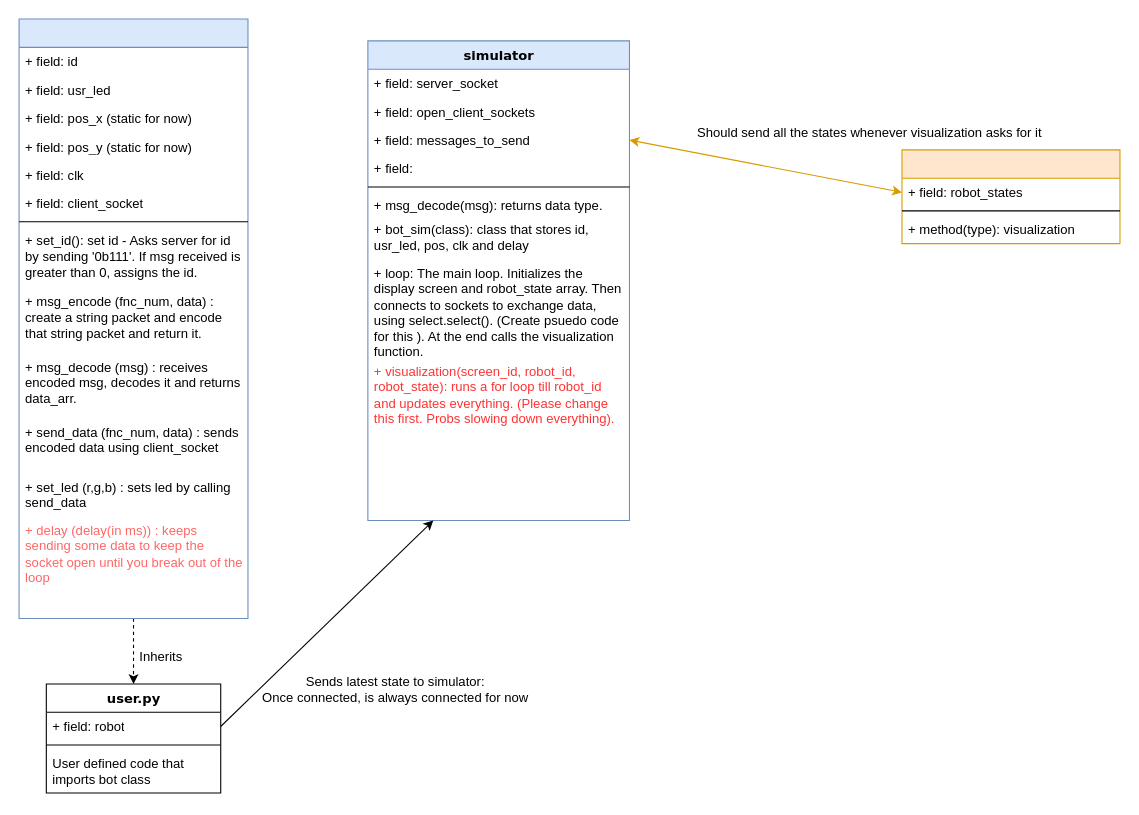
Image size: 1139x815. Some labels were removed from this diagram. The shapes that lost their labels are listed below. From the top down, each one's box as (x1, y1, x2, y2) in pixels, then its label:
(901, 149, 1120, 244): visualization (In works)
(18, 18, 248, 619): bot
